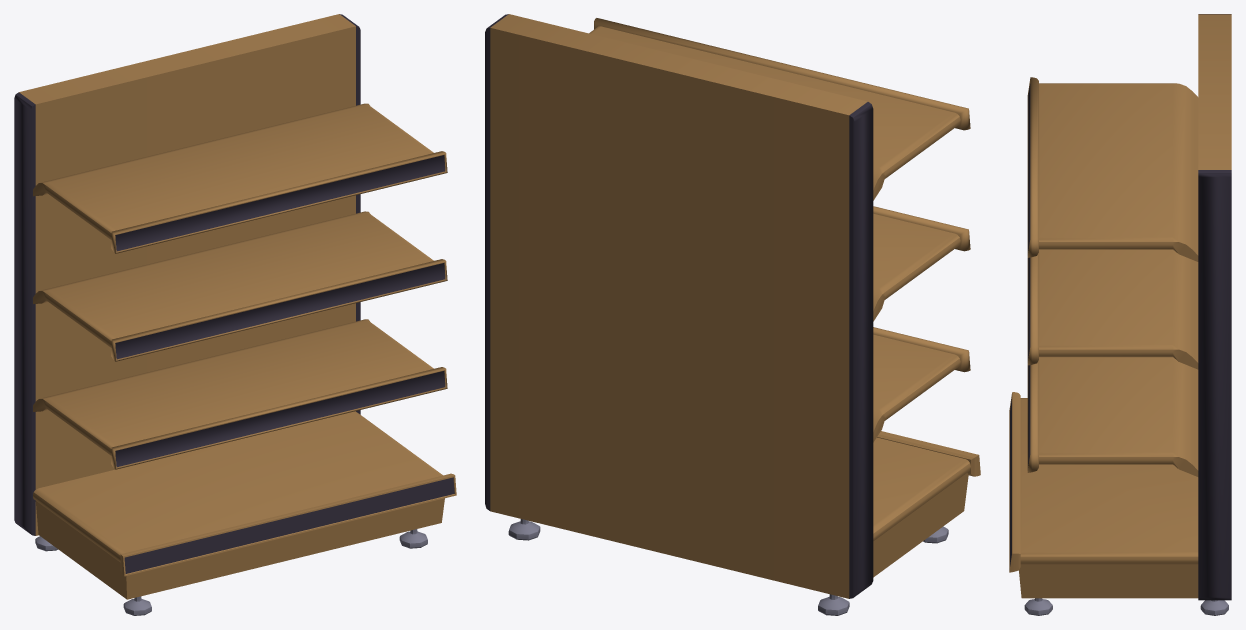
The model's file is shelf.glb.
The picture shows the model from 3 angles, left to right: view 1: azimuth 30°, elevation 25°; view 2: azimuth 150°, elevation 25°; view 3: azimuth 270°, elevation 25°; orthographic projection. The views are drawn at different scales.
Visible parts, largest first — view 1: półka, półka4, półka1, półka2, półka3, Cube.009, Cube.002, Cube.004, Cube.005, nóżki2; view 2: półka, półka4, półka1, półka2, półka3, Cube.004, nóżki1, Cube.009, Cube.005, Cube.002; view 3: półka1, półka4, półka, półka2, półka3, Cube.009, Cube.004, Cube.005, Cube.002, nóżki2, nóżki1.
Part boxes in pixels (x1,y1,x2,y2): półka: [14, 14, 360, 535]; półka4: [33, 411, 444, 599]; półka1: [33, 103, 433, 239]; półka2: [33, 211, 433, 347]; półka3: [33, 319, 433, 455]; Cube.009: [120, 473, 456, 576]; Cube.002: [111, 259, 447, 361]; Cube.004: [111, 151, 447, 253]; Cube.005: [111, 367, 447, 469]; nóżki2: [123, 529, 427, 615]; półka: [485, 14, 873, 598]; półka4: [873, 437, 970, 577]; półka1: [589, 26, 960, 200]; półka2: [873, 213, 960, 321]; półka3: [873, 334, 960, 442]; Cube.004: [594, 18, 970, 130]; nóżki1: [508, 519, 849, 615]; Cube.009: [877, 431, 980, 476]; Cube.005: [873, 327, 970, 372]; Cube.002: [873, 206, 970, 251]; półka1: [1039, 83, 1198, 261]; półka4: [1019, 398, 1198, 598]; półka: [1198, 14, 1231, 600]; półka2: [1039, 250, 1198, 369]; półka3: [1039, 357, 1198, 476]; Cube.009: [1009, 392, 1020, 572]; Cube.004: [1027, 77, 1038, 257]; Cube.005: [1027, 360, 1038, 472]; Cube.002: [1027, 253, 1038, 365]; nóżki2: [1024, 598, 1052, 615]; nóżki1: [1200, 600, 1228, 615].
Size of the model in its own units: 1.61 by 2.1 by 0.9369.
